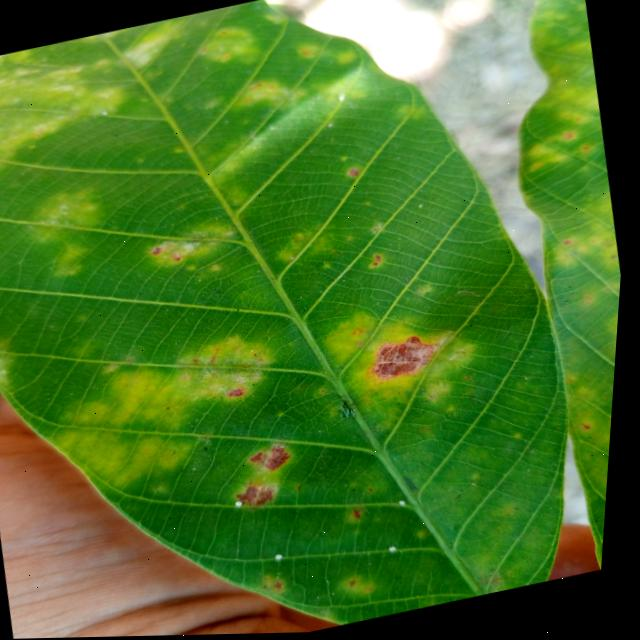Leaf-Blight: (373, 334, 444, 384)
